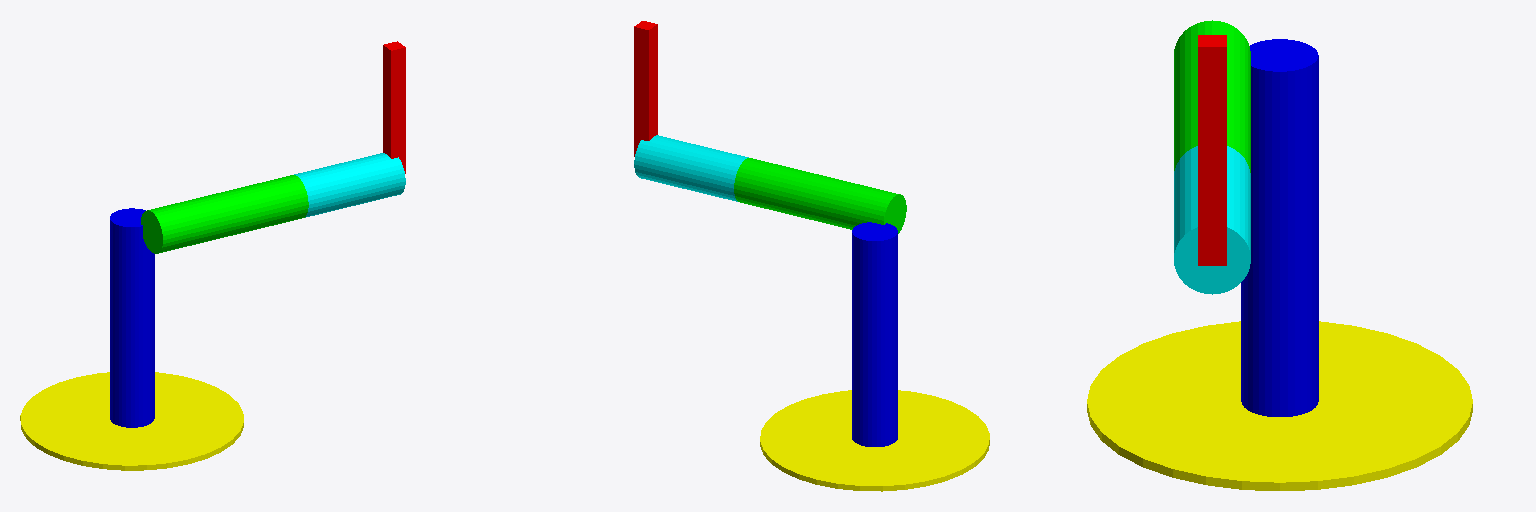
robot.urdf — simple_robot:
<robot name="simple_robot">
  <link name="base_link">
    <visual>
      <geometry>
        <cylinder length="0.01" radius="0.2"/>
      </geometry>
      <origin rpy="0 0 0" xyz="0 0 0"/>
      <material name="generic">
        <color rgba="1 1 0 1"/>
      </material>
    </visual>
  </link>
  <joint name="joint1" type="revolute">
    <parent link="base_link"/>
    <child link="link1"/>
    <origin xyz="0 0 0.0"/>
    <axis xyz="0 0 1"/>
    <limit effort="300" velocity="0.1" lower="-3.14" upper="3.14"/>
    <dynamics damping="50" friction="1"/>
  </joint>
  <link name="link1">
    <visual>
      <geometry>
        <cylinder length="0.4" radius="0.04"/>
      </geometry>
      <origin rpy="0 0 0" xyz="0 0 0.2"/>
      <material name="generic_2">
        <color rgba="0 0 1 1"/>
      </material>
    </visual>
  </link>
  <joint name="joint2" type="revolute">
    <parent link="link1"/>
    <child link="link2"/>
    <origin xyz="0 -0.07 0.4"/>
    <axis xyz="0 0 -1"/>
    <limit effort="300" velocity="0.1" lower="-3.14" upper="3.14"/>
    <dynamics damping="50" friction="1"/>
  </joint>
  <link name="link2">
    <visual>
      <geometry>
        <cylinder length="0.3" radius="0.04"/>
      </geometry>
      <origin rpy="0 1.5708 0" xyz="0.15 0 0"/>
      <material name="generic_3">
        <color rgba="0 1 0 1"/>
      </material>
    </visual>
  </link>
  <joint name="joint3" type="revolute">
    <parent link="link2"/>
    <child link="link3"/>
    <origin xyz="0.3 0 0"/>
    <axis xyz="0 0 -1"/>
    <limit effort="300" velocity="0.1" lower="-3.14" upper="3.14"/>
    <dynamics damping="50" friction="1"/>
  </joint>
  <link name="link3">
    <visual>
      <geometry>
        <cylinder length="0.2" radius="0.04"/>
      </geometry>
      <origin rpy="0 1.5708 0" xyz="0.1 0 0"/>
      <material name="generic_4">
        <color rgba="0 1 1 1"/>
      </material>
    </visual>
  </link>
  <joint name="joint4" type="prismatic">
    <parent link="link3"/>
    <child link="link4"/>
    <origin xyz="0.2 0 0"/>
    <axis xyz="0 0 -1"/>
    <limit effort="300" velocity="0.1" lower="-0.2" upper="0.2"/>
    <dynamics damping="50" friction="1"/>
  </joint>
  <link name="link4">
    <visual>
      <geometry>
        <box size="0.25 0.03 0.03"/>
      </geometry>
      <origin rpy="0 1.5708 0" xyz="0 0 0.125"/>
      <material name="generic_5">
        <color rgba="1 0 0 1"/>
      </material>
    </visual>
  </link>
<!-- link extra-->
  <joint name="joint5" type="prismatic">
    <parent link="link4"/>
    <child link="link5"/>
    <origin xyz="0.2 0 0"/>
    <axis xyz="0 0 -1"/>
    <limit effort="300" velocity="0.1" lower="-0.2" upper="0.2"/>
    <dynamics damping="50" friction="1"/>
  </joint>
  <link name="link5">
    <visual>
      <geometry>
        <box size="0.0 0.0 0.0"/>
      </geometry>
      <origin rpy="0 1.5708 0" xyz="0 0 0.125"/>
      <material name="generic_5">
        <color rgba="1 0 0 1"/>
      </material>
    </visual>
  </link>
</robot>

--- What the picture shows (computed from the rendered views, not written in the file) ---
The picture shows the robot from 3 angles, left to right: view 1: azimuth 30°, elevation 25°; view 2: azimuth 150°, elevation 25°; view 3: azimuth 270°, elevation 25°; orthographic projection.
Robot: simple_robot — 6 links, 5 joints (3 revolute, 2 prismatic); root link base_link; default pose: all joints at 0.
Links seen in each view (by area): view 1: base_link, link1, link2, link3, link4; view 2: base_link, link1, link2, link3, link4; view 3: base_link, link1, link3, link4, link2.
Boxes of the visible links, x1,y1,x2,y2 form: base_link: (20,372,243,470); link1: (110,208,154,427); link2: (141,175,308,253); link3: (294,153,405,217); link4: (383,41,405,173); base_link: (760,390,989,491); link1: (852,222,897,446); link2: (734,158,906,233); link3: (634,135,748,201); link4: (634,21,657,156); base_link: (1087,321,1472,490); link1: (1241,39,1318,416); link3: (1174,146,1250,294); link4: (1198,35,1226,265); link2: (1174,20,1250,172).
Size in the robot's own frame: 0.9 by 0.4 by 0.655 metres.
Geometry: primitives only (box / cylinder / sphere), no mesh files.